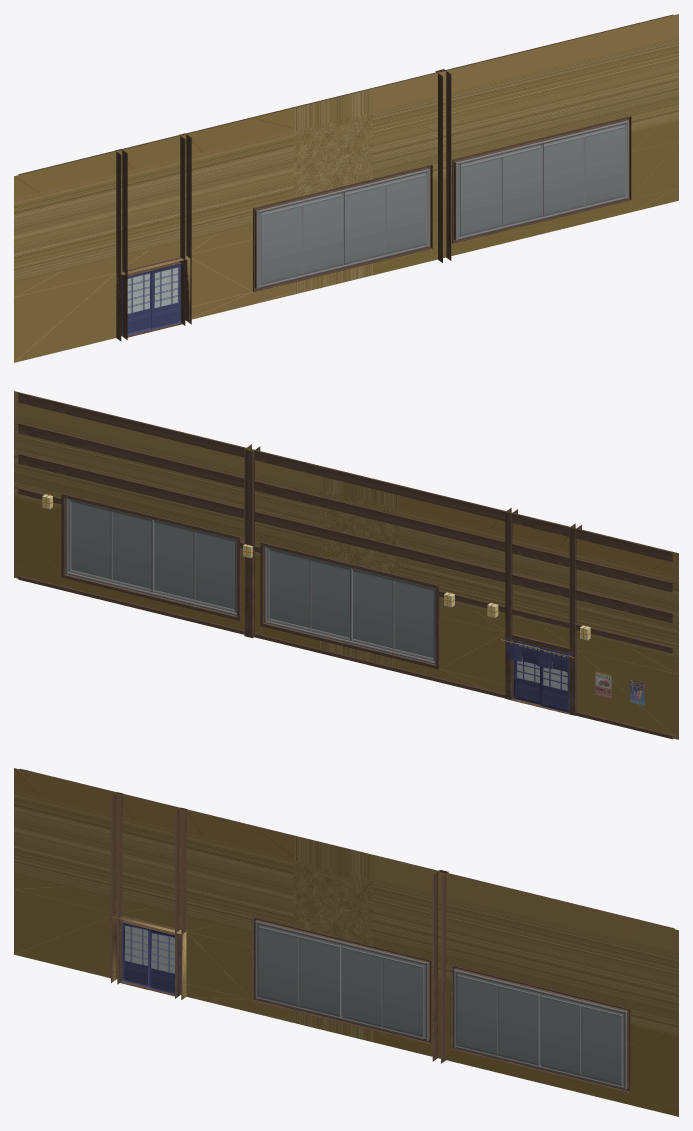
Rendered from a_t06_g10_eventwall.gltf.
3 renders of one model, top to bottom at view 1: azimuth 30°, elevation 25°; view 2: azimuth 150°, elevation 25°; view 3: azimuth 330°, elevation 25°, orthographic.
Visible parts, largest first — view 1: um_a_t06_g10_eventwall_model_a_t06_g10_eventwall_modelShape: (×6); view 2: um_a_t06_g10_eventwall_model_a_t06_g10_eventwall_modelShape: (×8); view 3: um_a_t06_g10_eventwall_model_a_t06_g10_eventwall_modelShape: (×6).
Boxes of the visible parts, box(x1,y1,x2,y2) form: um_a_t06_g10_eventwall_model_a_t06_g10_eventwall_modelShape: (×6): box(14, 14, 678, 362); um_a_t06_g10_eventwall_model_a_t06_g10_eventwall_modelShape: (×8): box(14, 391, 678, 739); um_a_t06_g10_eventwall_model_a_t06_g10_eventwall_modelShape: (×6): box(14, 768, 678, 1116).
Bounding box in the file's own units: 25.39 × 6.81 × 0.6693.
8 materials, 8 textured.
